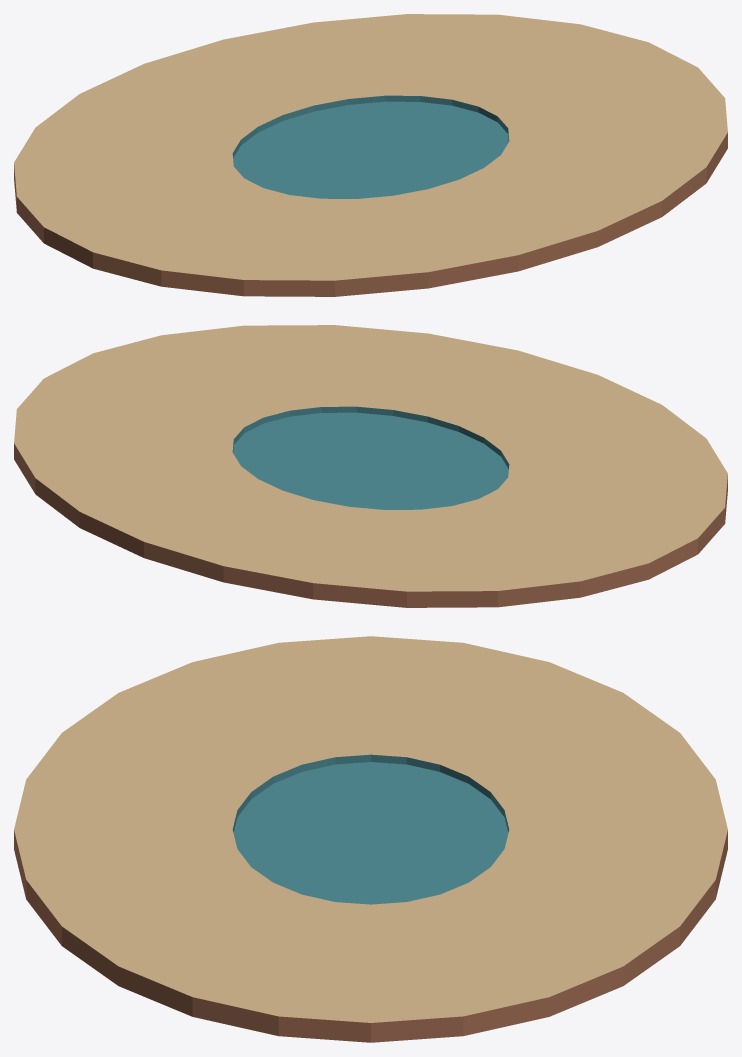
Rendered from primeval-frontier-lagoon-habitat-base-0e7fc469__1780.glb.
3 renders of one model, top to bottom at view 1: azimuth 30°, elevation 25°; view 2: azimuth 150°, elevation 25°; view 3: azimuth 270°, elevation 25°, orthographic. The views are drawn at different scales.
Visible parts, largest first — view 1: lagoon-habitat-base; view 2: lagoon-habitat-base; view 3: lagoon-habitat-base.
Part boxes in pixels (box(x1,y1,x2,y2)): lagoon-habitat-base: box(14, 14, 727, 296); lagoon-habitat-base: box(14, 325, 727, 607); lagoon-habitat-base: box(14, 636, 727, 1042).
Size of the model in its own units: 16 by 0.3809 by 12.48.
